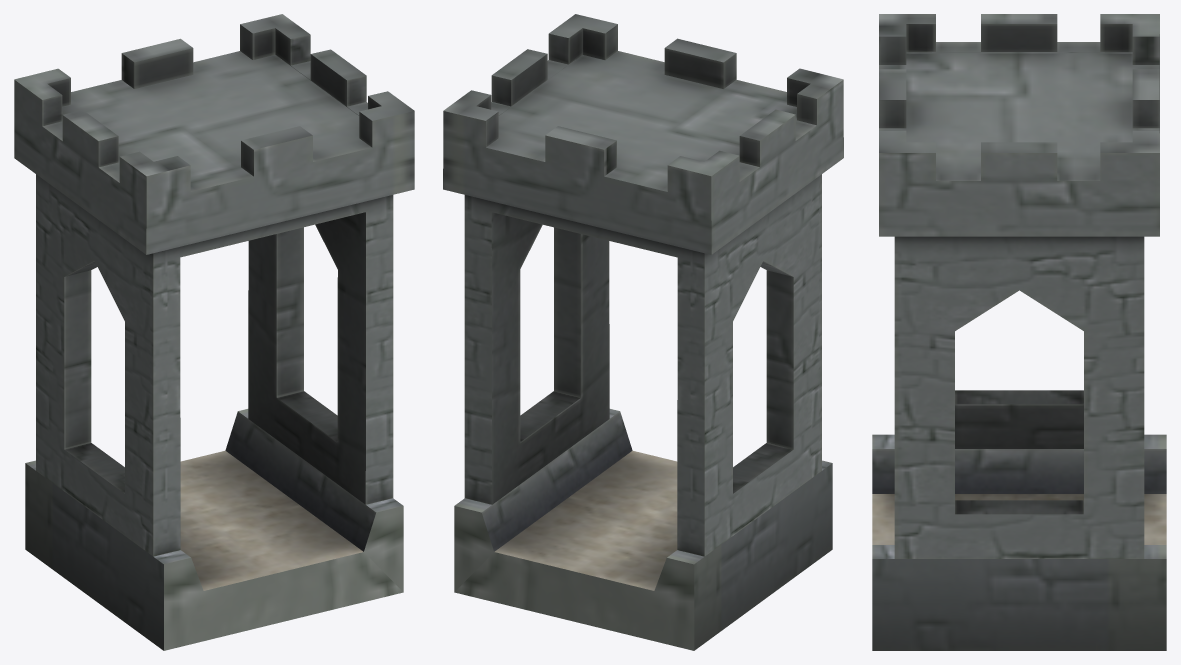
Rendered from med_tile_door.obj.
3 renders of one model, left to right at view 1: azimuth 30°, elevation 25°; view 2: azimuth 150°, elevation 25°; view 3: azimuth 270°, elevation 25°, orthographic. The views are drawn at different scales.
Parts seen in each view (by area): view 1: gateasdf; view 2: gateasdf; view 3: gateasdf.
Boxes of the visible parts, x1=… form: gateasdf: x1=14, y1=14, x2=414, y2=650; gateasdf: x1=443, y1=14, x2=843, y2=650; gateasdf: x1=872, y1=14, x2=1166, y2=650.
Size of the model in its own units: 1.12 by 1.9 by 1.
1 material, 1 textured.
